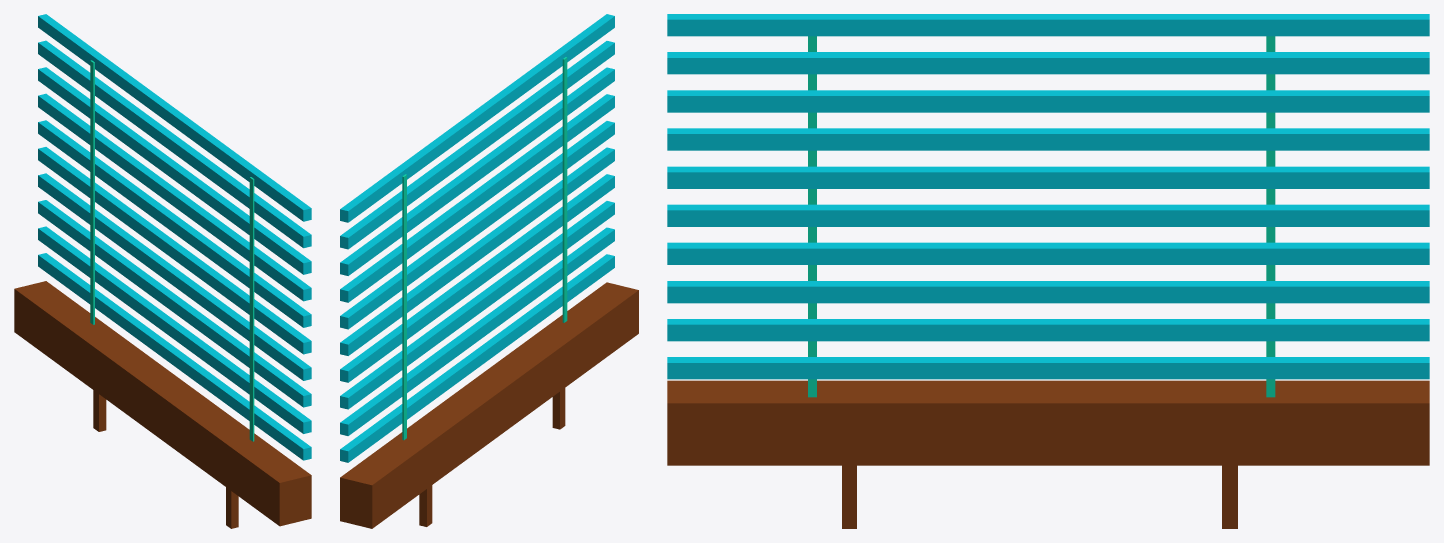
File: Adorno2.fbx
3 views of the same model, side by side, from view 1: azimuth 30°, elevation 25°; view 2: azimuth 150°, elevation 25°; view 3: azimuth 270°, elevation 25° (orthographic). The views are drawn at different scales.
Visible parts, largest first — view 1: Adorno_2, Base_2, Conexion_2; view 2: Adorno_2, Base_2, Conexion_2; view 3: Adorno_2, Base_2, Conexion_2.
Boxes of the visible parts, x1=… form: Adorno_2: x1=38, y1=14, x2=311, y2=460; Base_2: x1=14, y1=281, x2=311, y2=528; Conexion_2: x1=90, y1=60, x2=254, y2=441; Adorno_2: x1=340, y1=14, x2=614, y2=462; Base_2: x1=340, y1=282, x2=638, y2=528; Conexion_2: x1=402, y1=57, x2=567, y2=440; Adorno_2: x1=667, y1=14, x2=1429, y2=379; Base_2: x1=667, y1=380, x2=1429, y2=528; Conexion_2: x1=808, y1=36, x2=1275, y2=397.
Bounding box in the file's own units: 39.84 × 430 × 574.
